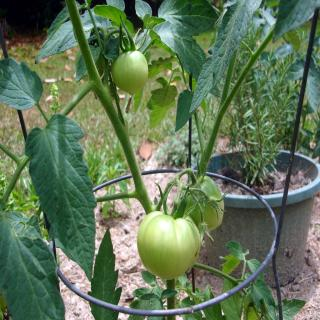tomato: (136, 179, 207, 281), (182, 149, 226, 232), (110, 43, 148, 95)
